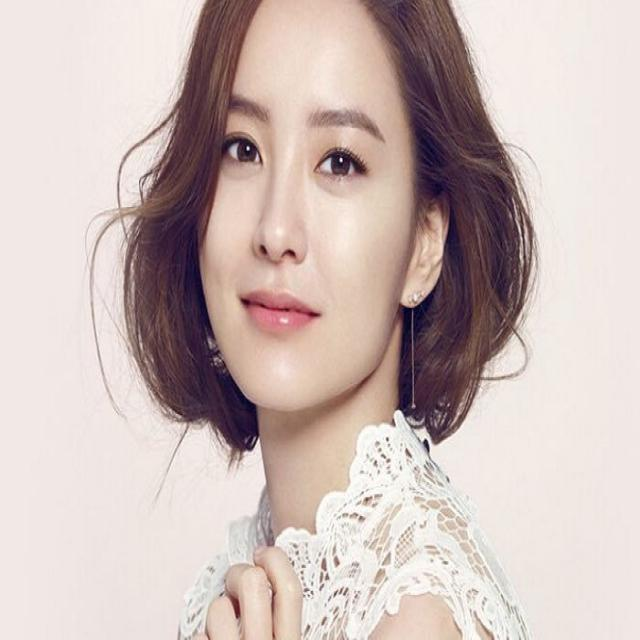face: (204, 9, 401, 414)
